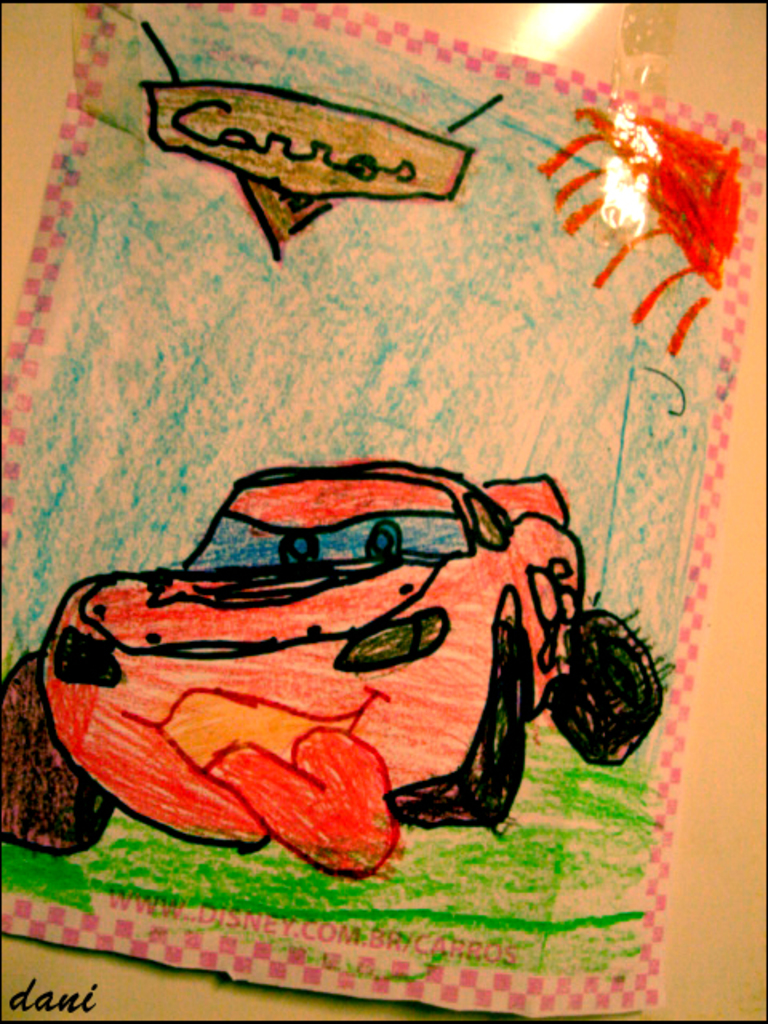cars: (0, 455, 663, 875)
